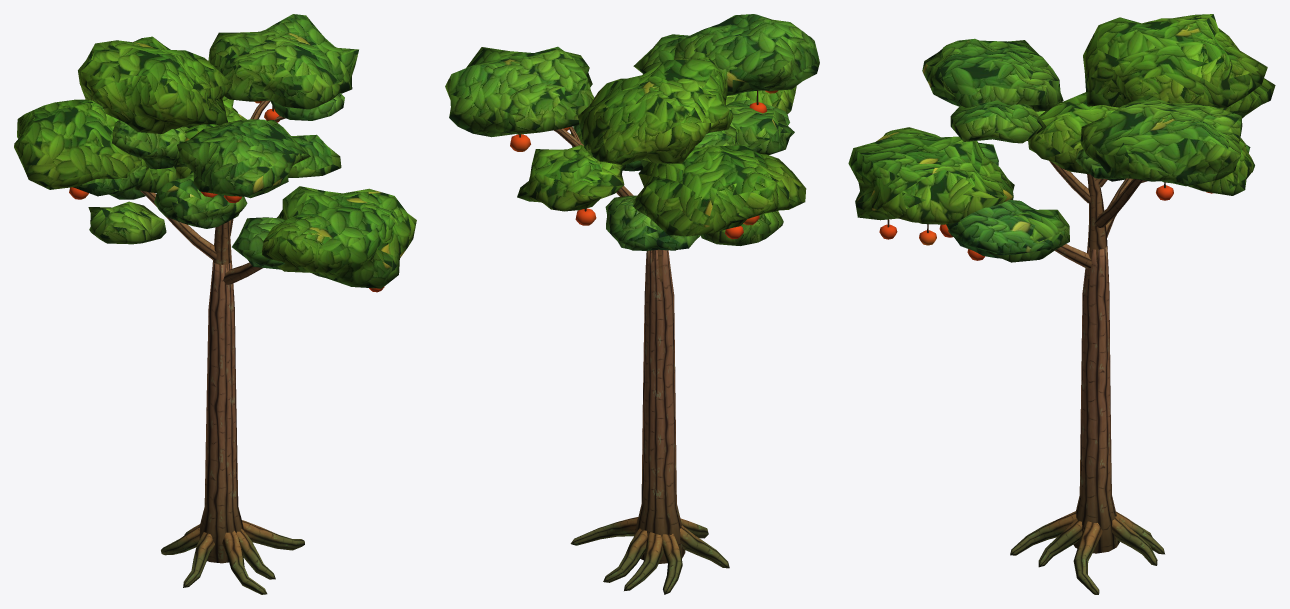
File: tree_young.glb
The picture shows the model from 3 angles, left to right: view 1: azimuth 30°, elevation 25°; view 2: azimuth 150°, elevation 25°; view 3: azimuth 270°, elevation 25°; orthographic projection. The views are drawn at different scales.
Visible parts, largest first — view 1: Leaves, Trunk, Roots, Branches, Fruit; view 2: Leaves, Trunk, Roots, Fruit, Branches; view 3: Leaves, Trunk, Roots, Branches, Fruit.
Boxes of the visible parts, x1,y1,x2,y2 form: Leaves: [14, 14, 416, 288]; Trunk: [198, 261, 244, 563]; Roots: [161, 520, 304, 594]; Branches: [140, 100, 285, 291]; Fruit: [69, 101, 384, 292]; Leaves: [445, 14, 819, 250]; Trunk: [634, 250, 685, 563]; Roots: [570, 517, 729, 594]; Fruit: [510, 90, 777, 239]; Branches: [554, 126, 662, 281]; Leaves: [848, 14, 1275, 262]; Trunk: [1073, 246, 1119, 553]; Roots: [1010, 511, 1164, 594]; Branches: [1049, 161, 1147, 278]; Fruit: [879, 181, 1213, 260].
Size of the model in its own units: 2.89 by 4.31 by 3.25.
Materials: 3 (2 with a texture image).
